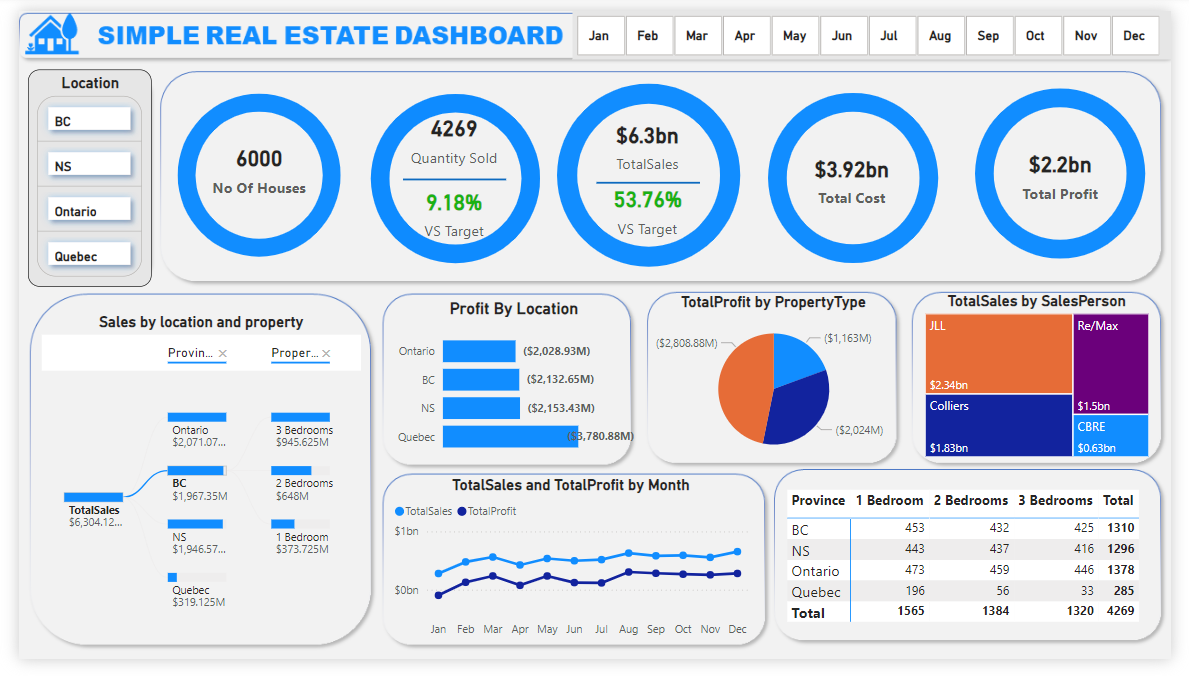

What the dashboard file says about the page in this screenshot:
{"tool":"powerbi","page":{"name":"OverView","canvas":[1280,720],"ordinal":0},"visuals":[{"type":"advancedSlicerVisual","title":"Location","fields":{"Values":["Location.Province"]},"box":[10,64.3,137.1,241.4],"z":0},{"type":"advancedSlicerVisual","fields":{"Values":["Calendar.Month"]},"box":[614.3,0,665.7,54.3],"z":1000},{"type":"donutChart","fields":{"Y":["AllMeasures.No Of Houses"]},"box":[147.5,47.5,236.2,267.5],"z":2000},{"type":"card","fields":{"Values":["AllMeasures.No Of Houses"]},"box":[208.8,121.2,116.2,103.8],"z":3000},{"type":"donutChart","fields":{"Y":["AllMeasures.qty_to_targ","AllMeasures.Quantity Sold"]},"box":[327.5,62.5,312.5,245],"z":4000},{"type":"donutChart","fields":{"Y":["AllMeasures.TotalSales","AllMeasures.sales_to_targ"]},"box":[550,50,298.6,264.3],"z":5000},{"type":"card","fields":{"Values":["AllMeasures.Quantity Sold"]},"box":[425.4,87.7,116.2,103.8],"z":6000},{"type":"donutChart","fields":{"Y":["AllMeasures.TotalCost"]},"box":[802.5,57.5,246.2,253.8],"z":7000},{"type":"donutChart","fields":{"Y":["AllMeasures.TotalProfit"]},"box":[1033.8,53.8,246.2,253.8],"z":8000},{"type":"shape","box":[426.9,53.8,114.6,267.7],"z":9000},{"type":"card","fields":{"Values":["AllMeasures.% qty to target"]},"box":[365.4,87.7,236.2,267.7],"z":10000},{"type":"card","fields":{"Values":["AllMeasures.TotalSales"]},"box":[640,94.3,115.7,104.3],"z":11000},{"type":"card","fields":{"Values":["AllMeasures.TotalCost"]},"box":[866.7,133.3,116.7,103.3],"z":12000},{"type":"card","fields":{"Values":["AllMeasures.TotalProfit"]},"box":[1098.3,128.3,116.7,103.3],"z":13000},{"type":"decompositionTreeVisual","title":"Sales by location and property","fields":{"Analyze":["AllMeasures.TotalSales"],"ExplainBy":["Location.Province","PropertyType.PropertyType"]},"box":[20,335,365,385],"z":14000},{"type":"clusteredBarChart","title":"Profit By Location","fields":{"Category":["Location.Province"],"Y":["AllMeasures.TotalProfit"]},"box":[411.7,320,276.7,183.3],"z":15000},{"type":"pieChart","fields":{"Y":["AllMeasures.TotalProfit"],"Category":["PropertyType.PropertyType"]},"box":[700,313.3,276.7,193.3],"z":16000},{"type":"treemap","fields":{"Values":["AllMeasures.TotalSales"],"Details":["SalesPerson.SalesPerson"]},"box":[1001.7,311.7,258.3,188.3],"z":17000},{"type":"lineChart","fields":{"Y":["AllMeasures.TotalSales","AllMeasures.TotalProfit"],"Category":["Calendar.Month"]},"box":[411.7,516.7,403.3,188.3],"z":18000},{"type":"pivotTable","fields":{"Rows":["Location.Province"],"Values":["AllMeasures.Quantity Sold"],"Columns":["PropertyType.PropertyType"]},"box":[848.3,526.7,411.7,178.3],"z":19000},{"type":"card","fields":{"Values":["AllMeasures.% sales to target"]},"box":[580,85.7,235.7,268.6],"z":20000},{"type":"shape","box":[641.7,56.7,115,268.3],"z":21000}]}

Visuals, with their boxes in screenshot pixels (x1, y1, x2, y2), scaled from the page's 1280x720 canvas onto the 1189x676 screenshot:
"Location" advancedSlicerVisual: (x1=9, y1=60, x2=137, y2=287)
advancedSlicerVisual - Calendar.Month: (x1=571, y1=0, x2=1188, y2=51)
donutChart - AllMeasures.No Of Houses: (x1=137, y1=45, x2=356, y2=296)
card - AllMeasures.No Of Houses: (x1=194, y1=114, x2=302, y2=211)
donutChart - AllMeasures.qty_to_targ x AllMeasures.Quantity Sold: (x1=304, y1=59, x2=594, y2=289)
donutChart - AllMeasures.TotalSales x AllMeasures.sales_to_targ: (x1=511, y1=47, x2=788, y2=295)
card - AllMeasures.Quantity Sold: (x1=395, y1=82, x2=503, y2=180)
donutChart - AllMeasures.TotalCost: (x1=745, y1=54, x2=974, y2=292)
donutChart - AllMeasures.TotalProfit: (x1=960, y1=51, x2=1188, y2=289)
shape: (x1=397, y1=51, x2=503, y2=302)
card - AllMeasures.% qty to target: (x1=339, y1=82, x2=559, y2=334)
card - AllMeasures.TotalSales: (x1=594, y1=89, x2=702, y2=186)
card - AllMeasures.TotalCost: (x1=805, y1=125, x2=913, y2=222)
card - AllMeasures.TotalProfit: (x1=1020, y1=120, x2=1129, y2=217)
"Sales by location and property" decompositionTreeVisual: (x1=19, y1=315, x2=358, y2=675)
"Profit By Location" clusteredBarChart: (x1=382, y1=300, x2=639, y2=473)
pieChart - AllMeasures.TotalProfit x PropertyType.PropertyType: (x1=650, y1=294, x2=907, y2=476)
treemap - AllMeasures.TotalSales x SalesPerson.SalesPerson: (x1=930, y1=293, x2=1170, y2=469)
lineChart - AllMeasures.TotalSales x AllMeasures.TotalProfit: (x1=382, y1=485, x2=757, y2=662)
pivotTable - Location.Province x AllMeasures.Quantity Sold: (x1=788, y1=495, x2=1170, y2=662)
card - AllMeasures.% sales to target: (x1=539, y1=80, x2=758, y2=333)
shape: (x1=596, y1=53, x2=703, y2=305)
